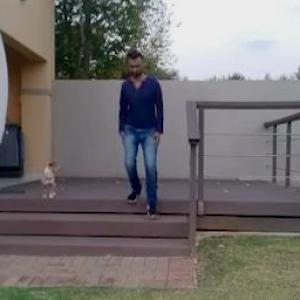follow: (124, 48, 166, 216)
